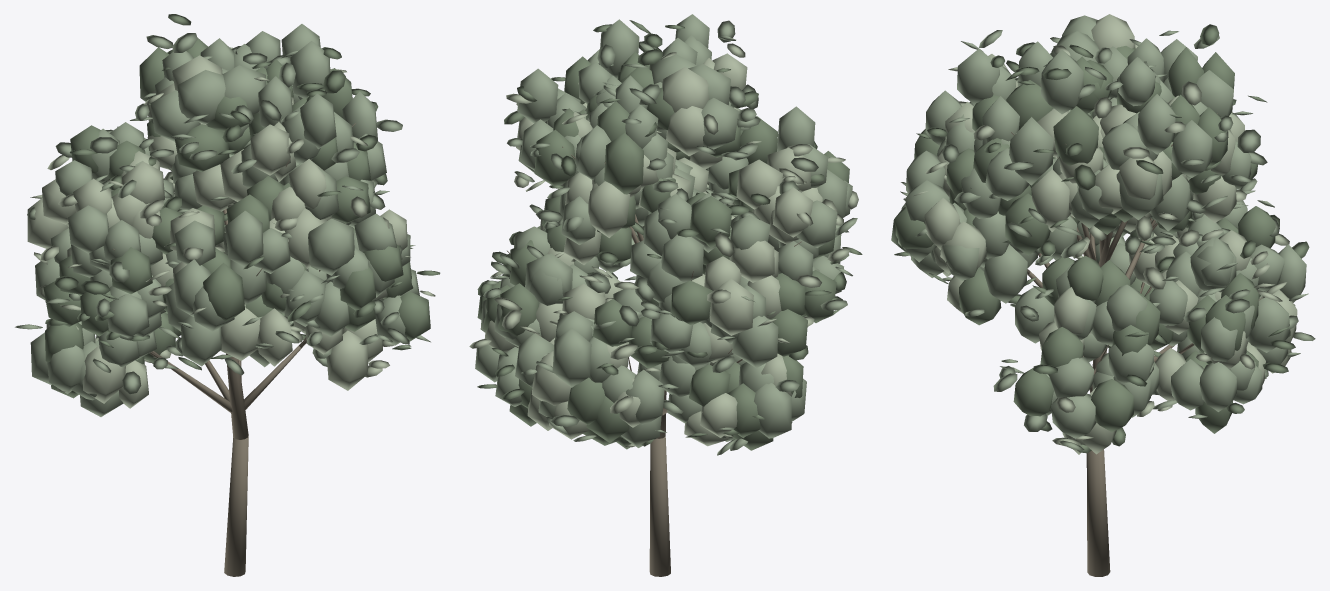
The model's file is SM_MPR3_Tree_0.fbx.
3 views of the same model, side by side, from view 1: azimuth 30°, elevation 25°; view 2: azimuth 150°, elevation 25°; view 3: azimuth 270°, elevation 25° (orthographic). The views are drawn at different scales.
Parts seen in each view (by area): view 1: SM_MPR3_Tree_0; view 2: SM_MPR3_Tree_0; view 3: SM_MPR3_Tree_0.
Part boxes in pixels (left/top/right/bottom): SM_MPR3_Tree_0: left=15, top=14, right=440, bottom=576; SM_MPR3_Tree_0: left=469, top=14, right=862, bottom=576; SM_MPR3_Tree_0: left=891, top=14, right=1315, bottom=576.
Size of the model in its own units: 650 by 612 by 880.
